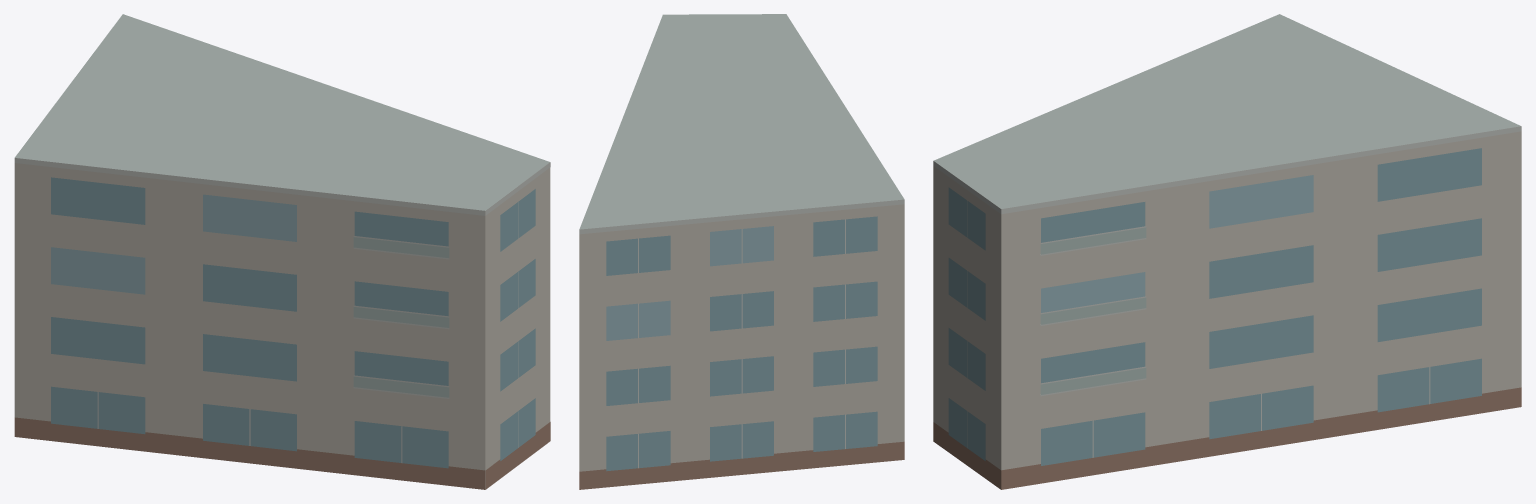
Rendered from survey-upis-32780663.glb.
3 views of the same model, side by side, from view 1: azimuth 30°, elevation 25°; view 2: azimuth 150°, elevation 25°; view 3: azimuth 270°, elevation 25° (orthographic). The views are drawn at different scales.
Parts seen in each view (by area): view 1: survey-upis-32780663.tmp; view 2: survey-upis-32780663.tmp; view 3: survey-upis-32780663.tmp.
Part boxes in pixels (x1,y1,x2,y2): survey-upis-32780663.tmp: (14,14,550,489); survey-upis-32780663.tmp: (579,14,904,489); survey-upis-32780663.tmp: (933,14,1521,489).
Size of the model in its own units: 19.91 by 13.35 by 25.36.
